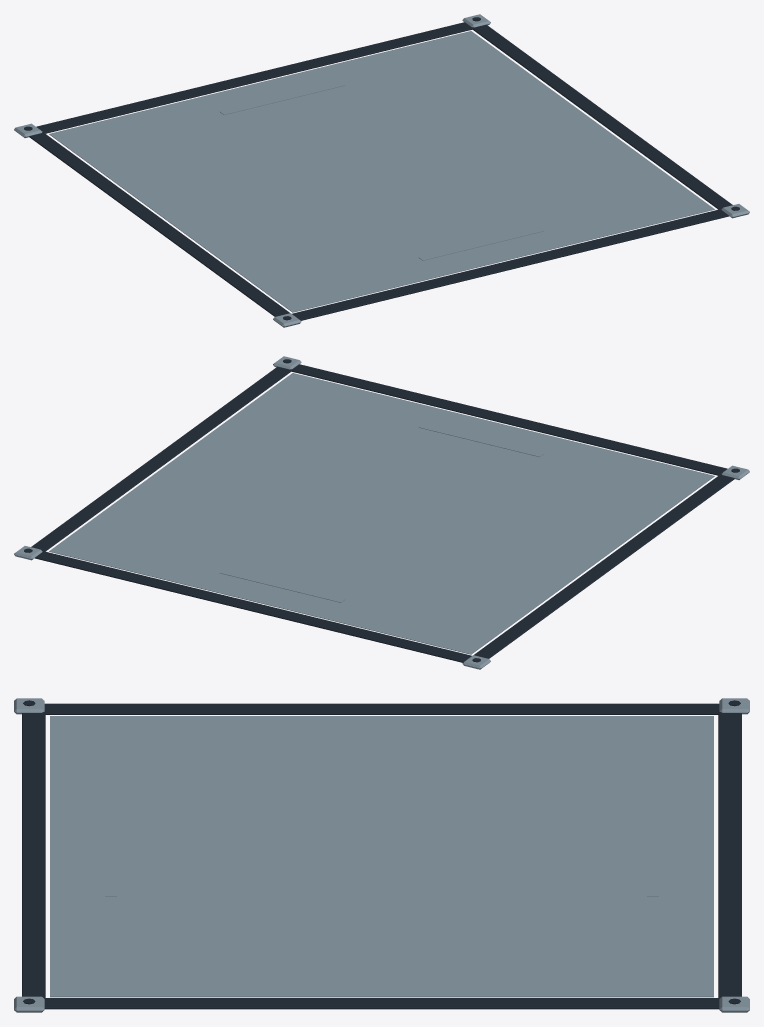
File: RedirectorPlate.fbx
3 views of the same model, one above another, from view 1: azimuth 30°, elevation 25°; view 2: azimuth 150°, elevation 25°; view 3: azimuth 270°, elevation 25° (orthographic). The views are drawn at different scales.
Visible parts, largest first — view 1: Surface, Frame; view 2: Surface, Frame; view 3: Surface, Frame.
Part boxes in pixels (box(x1,y1,x2,y2)): Surface: box(49, 31, 714, 312); Frame: box(14, 14, 749, 327); Surface: box(49, 373, 714, 654); Frame: box(14, 356, 749, 669); Surface: box(50, 716, 713, 997); Frame: box(14, 698, 749, 1012).
Bounding box in the file's own units: 0.964 × 0.009 × 0.964.
